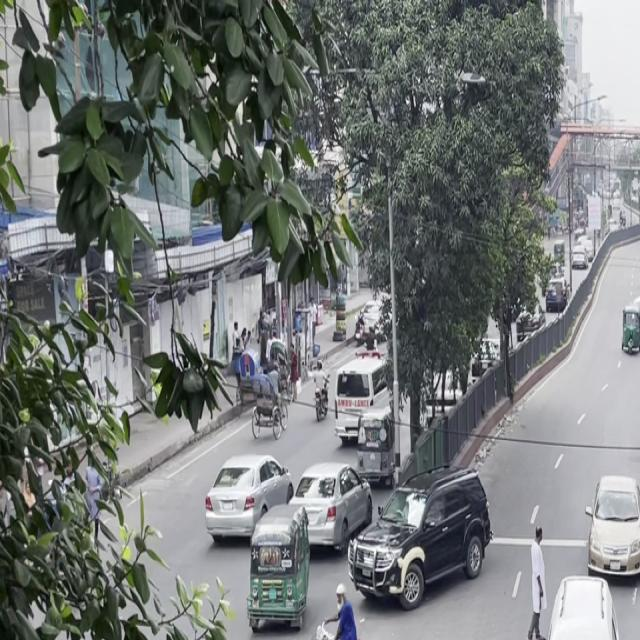bicycle: (298, 590, 386, 640)
car: (350, 464, 493, 612), (198, 447, 290, 555), (286, 455, 375, 560), (524, 569, 636, 640), (582, 462, 640, 593), (330, 353, 398, 451), (639, 384, 640, 476)
rickshaw: (238, 505, 314, 639)
